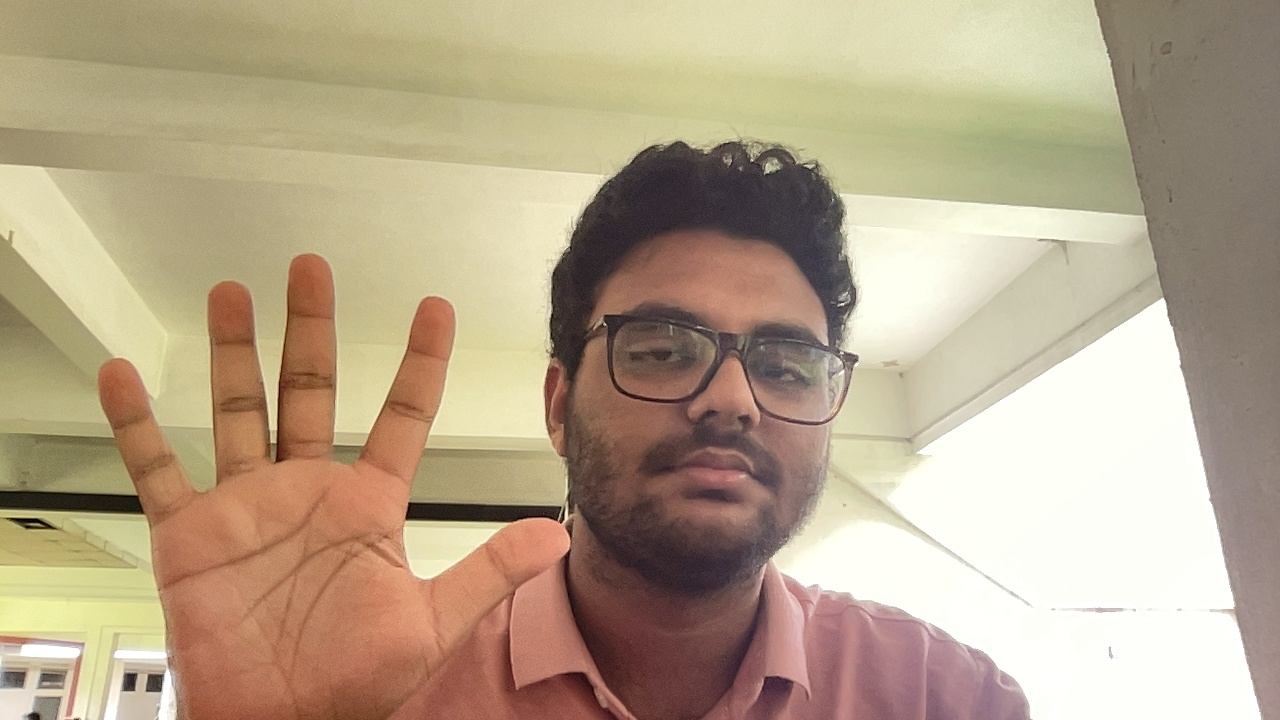hello: (74, 253, 576, 720)
